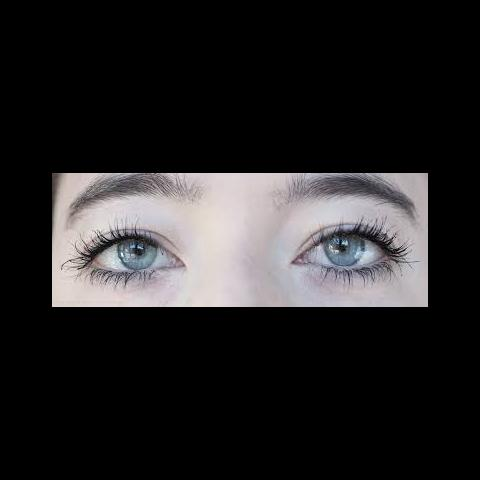opened: (66, 178, 418, 293)
